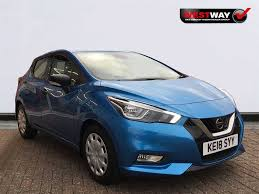Nissan: (17, 52, 245, 165)
